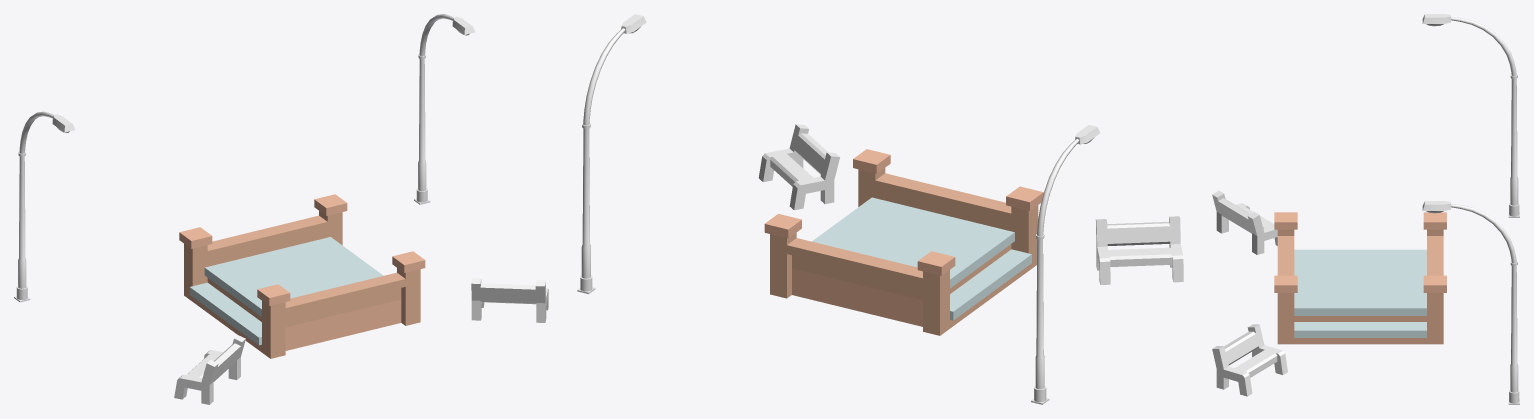
The model's file is combo-waterfront-wood-bridge.glb.
3 views of the same model, side by side, from view 1: azimuth 30°, elevation 25°; view 2: azimuth 150°, elevation 25°; view 3: azimuth 270°, elevation 25° (orthographic). The views are drawn at different scales.
Visible parts, largest first — view 1: 00_asset-092, 01_asset-007, 02_asset-007, 03_asset-075, 04_asset-075; view 2: 00_asset-092, 01_asset-007, 02_asset-007, 03_asset-075, 04_asset-075; view 3: 00_asset-092, 02_asset-007, 03_asset-075, 04_asset-075, 01_asset-007.
Part boxes in pixels (x1,y1,x2,y2): 00_asset-092: [179, 194, 425, 358]; 01_asset-007: [174, 335, 245, 404]; 02_asset-007: [471, 278, 548, 322]; 03_asset-075: [14, 111, 74, 302]; 04_asset-075: [414, 14, 475, 204]; 00_asset-092: [764, 149, 1043, 335]; 01_asset-007: [1095, 216, 1183, 284]; 02_asset-007: [758, 124, 840, 210]; 03_asset-075: [1031, 125, 1100, 404]; 04_asset-075: [577, 14, 646, 294]; 00_asset-092: [1274, 212, 1446, 344]; 02_asset-007: [1212, 324, 1287, 396]; 03_asset-075: [1422, 14, 1519, 217]; 04_asset-075: [1422, 201, 1519, 404]; 01_asset-007: [1212, 190, 1277, 254].
Bounding box in the file's own units: 8.22 × 3.99 × 5.56.
